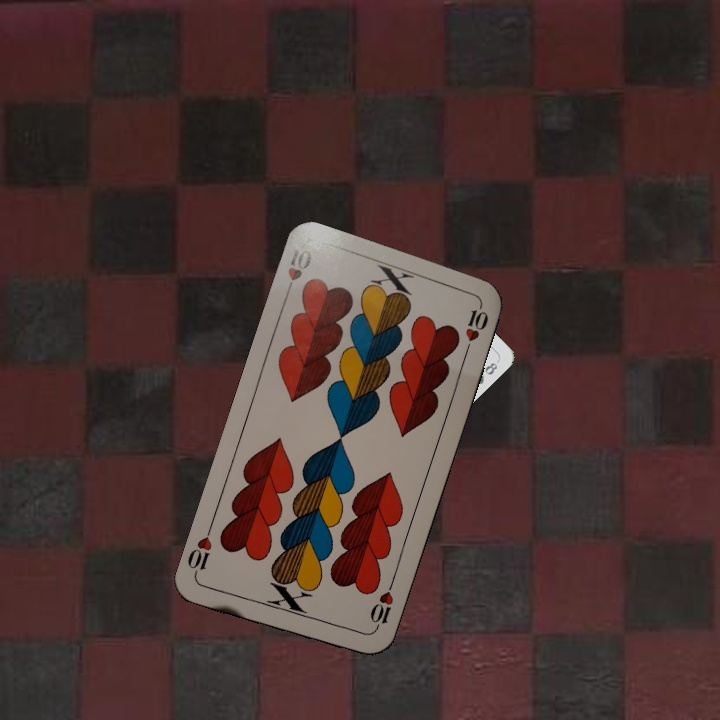H10: (280, 242, 315, 301), (366, 579, 397, 636)
